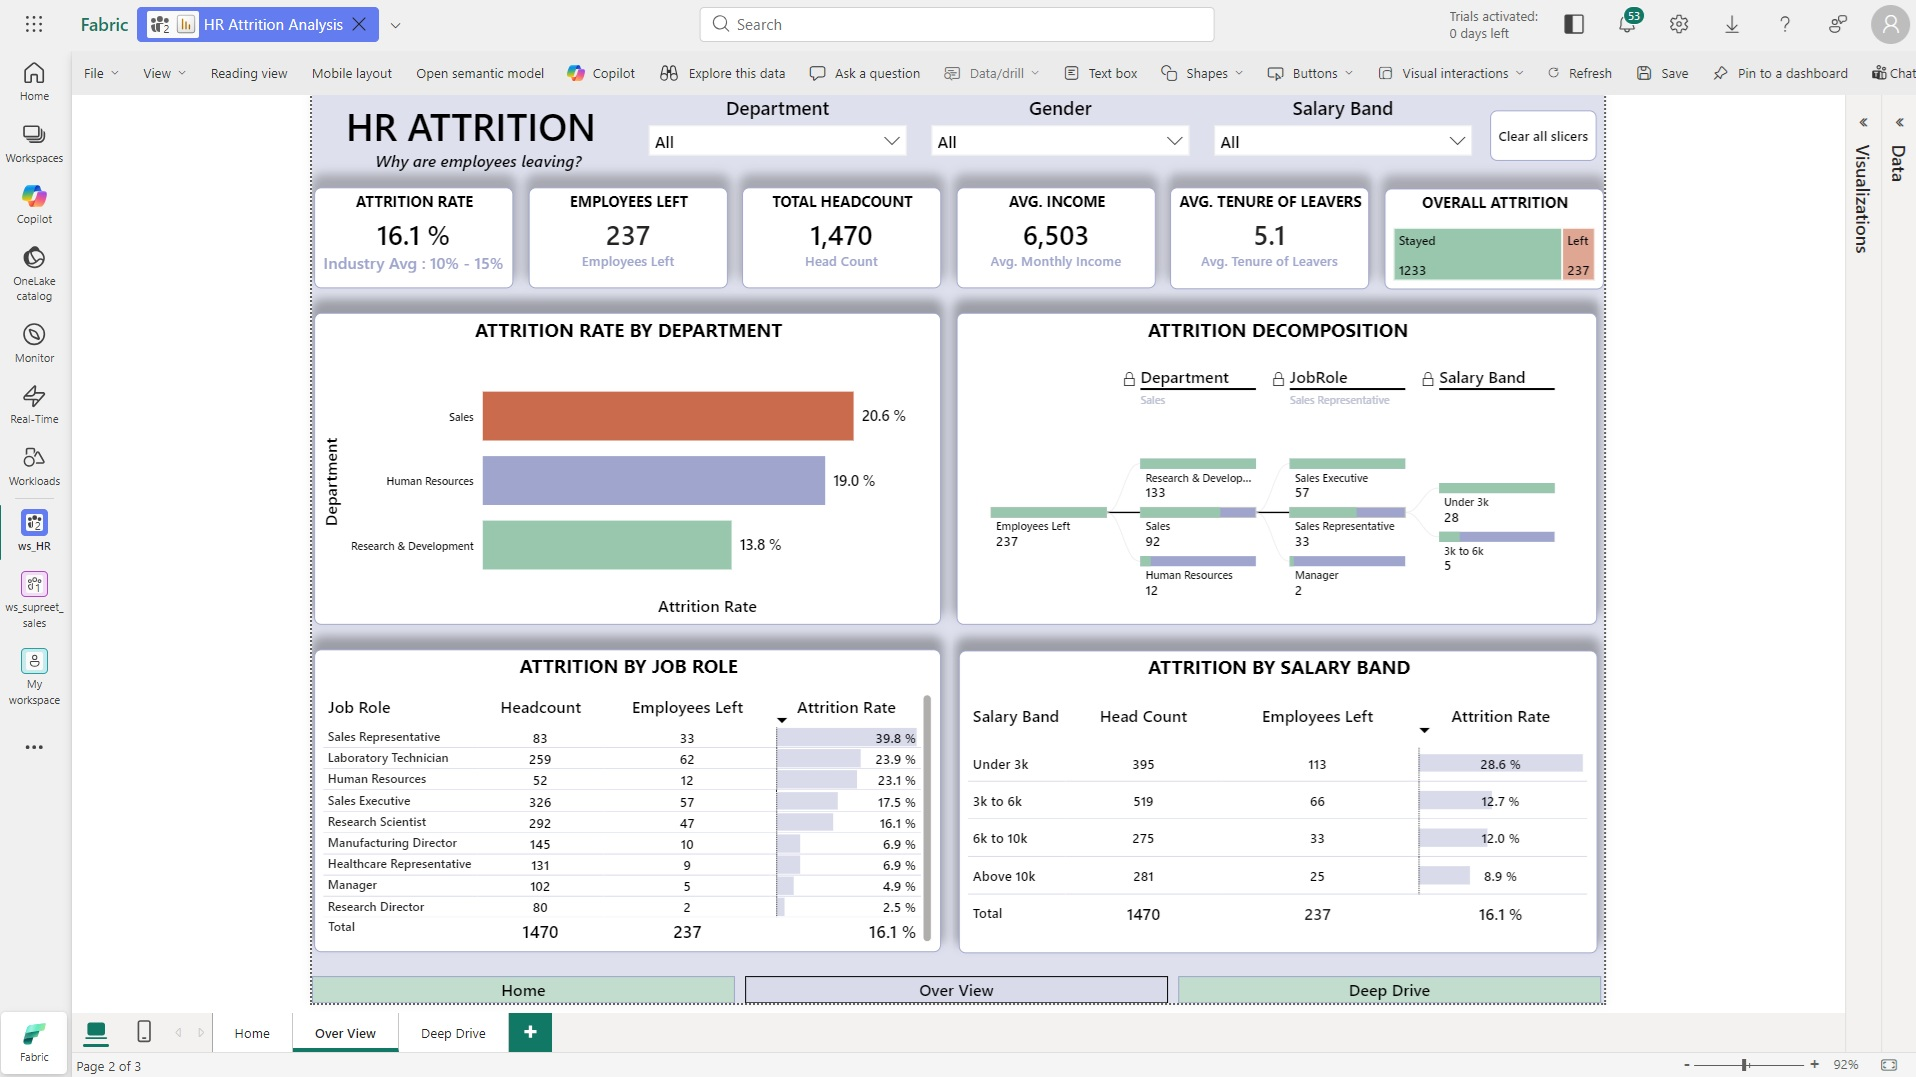

What the dashboard file says about the page in this screenshot:
{"tool":"powerbi","page":{"name":"Over View","canvas":[1280,900],"ordinal":1},"visuals":[{"type":"textbox","box":[28.3,0,273.2,91.8],"z":0},{"type":"slicer","title":"Department","fields":{"Values":["HR_Employees.Department"]},"box":[324.2,0,275,65],"z":1000},{"type":"slicer","title":"Gender","fields":{"Values":["HR_Employees.Gender"]},"box":[604.2,0,275,65],"z":2000},{"type":"slicer","title":"Salary Band","fields":{"Values":["HR_Employees.Salary Band"]},"box":[884.1,0,275,65.7],"z":3000},{"type":"actionButton","box":[1167.5,14.7,105.4,49.9],"z":4000},{"type":"pageNavigator","box":[0,872.8,1278.6,27.2],"z":5000},{"type":"cardVisual","title":"ATTRITION RATE","fields":{"Data":["HR_Employees.Attrition Rate"]},"box":[2.3,91.8,197,99.7],"z":6000},{"type":"cardVisual","title":"AVG. TENURE OF LEAVERS","fields":{"Data":["HR_Employees.Avg. Tenure of Leavers"]},"box":[850.1,91.8,197,100.9],"z":7000},{"type":"cardVisual","title":"EMPLOYEES LEFT","fields":{"Data":["HR_Employees.Employees Left"]},"box":[214.2,91.8,197,100],"z":8000},{"type":"cardVisual","title":"TOTAL HEADCOUNT","fields":{"Data":["HR_Employees.Headcount"]},"box":[426.2,91.8,197,100],"z":9000},{"type":"cardVisual","title":"AVG. INCOME","fields":{"Data":["HR_Employees.Avg. Monthly Income"]},"box":[638.2,91.8,197,100],"z":10000},{"type":"clusteredBarChart","title":"ATTRITION RATE BY DEPARTMENT","fields":{"Category":["HR_Employees.Department"],"Y":["HR_Employees.Attrition Rate"]},"box":[2.3,215.4,621.2,309.4],"z":12000},{"type":"decompositionTreeVisual","title":"ATTRITION DECOMPOSITION","fields":{"Analyze":["HR_Employees.Employees Left"],"ExplainBy":["HR_Employees.Department","HR_Employees.JobRole","HR_Employees.Salary Band"]},"box":[638.2,215.4,634.8,309.4],"z":13000},{"type":"pivotTable","title":"ATTRITION BY JOB ROLE","fields":{"Rows":["HR_Employees.JobRole"],"Values":["HR_Employees.Headcount","HR_Employees.Employees Left","HR_Employees.Attrition Rate"]},"box":[2.3,549.7,621.2,300.4],"z":14000},{"type":"pivotTable","title":"ATTRITION BY  SALARY BAND","fields":{"Rows":["HR_Employees.Salary Band"],"Values":["HR_Employees.Headcount","HR_Employees.Employees Left","HR_Employees.Attrition Rate"]},"box":[640.4,550.9,633,300.4],"z":15000},{"type":"treemap","title":"OVERALL ATTRITION ","fields":{"Values":["HR_Employees.Employees Stayed","HR_Employees.Employees Left"]},"box":[1062.1,92.9,217,100],"z":16000}]}

Visuals, with their boxes on the page's 1280x900 design canvas (x1, y1, x2, y2). These are canvas units, not pixel positions in the 1916x1077 screenshot, which may show the page scaled, cropped or inside an application window:
textbox: 28, 0, 302, 92
"Department" slicer: 324, 0, 599, 65
"Gender" slicer: 604, 0, 879, 65
"Salary Band" slicer: 884, 0, 1159, 66
actionButton: 1168, 15, 1273, 65
pageNavigator: 0, 873, 1279, 900
"ATTRITION RATE" cardVisual: 2, 92, 199, 192
"AVG. TENURE OF LEAVERS" cardVisual: 850, 92, 1047, 193
"EMPLOYEES LEFT" cardVisual: 214, 92, 411, 192
"TOTAL HEADCOUNT" cardVisual: 426, 92, 623, 192
"AVG. INCOME" cardVisual: 638, 92, 835, 192
"ATTRITION RATE BY DEPARTMENT" clusteredBarChart: 2, 215, 624, 525
"ATTRITION DECOMPOSITION" decompositionTreeVisual: 638, 215, 1273, 525
"ATTRITION BY JOB ROLE" pivotTable: 2, 550, 624, 850
"ATTRITION BY  SALARY BAND" pivotTable: 640, 551, 1273, 851
"OVERALL ATTRITION " treemap: 1062, 93, 1279, 193
